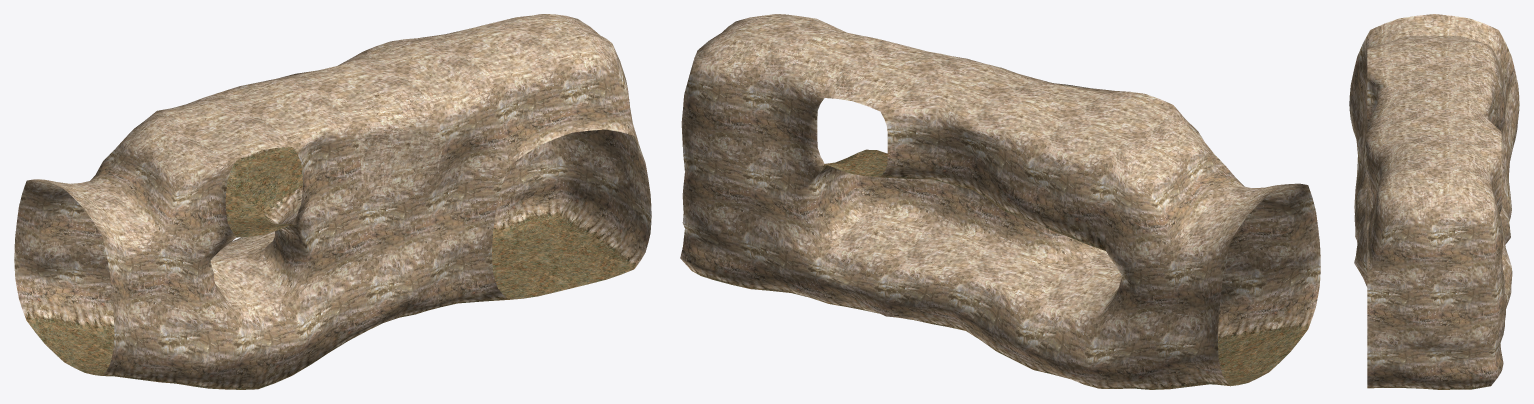
Rendered from thm_all_cave_s03_mirror_r6_mesh_r6.fbx.
3 renders of one model, left to right at view 1: azimuth 30°, elevation 25°; view 2: azimuth 150°, elevation 25°; view 3: azimuth 270°, elevation 25°, orthographic. The views are drawn at different scales.
Visible parts, largest first — view 1: mesh_node; view 2: mesh_node; view 3: mesh_node.
Boxes of the visible parts, left/top/right/bottom form: mesh_node: left=14, top=14, right=651, bottom=389; mesh_node: left=680, top=14, right=1320, bottom=389; mesh_node: left=1349, top=14, right=1519, bottom=389.
Size of the model in its own units: 65.18 by 29.36 by 20.28.
